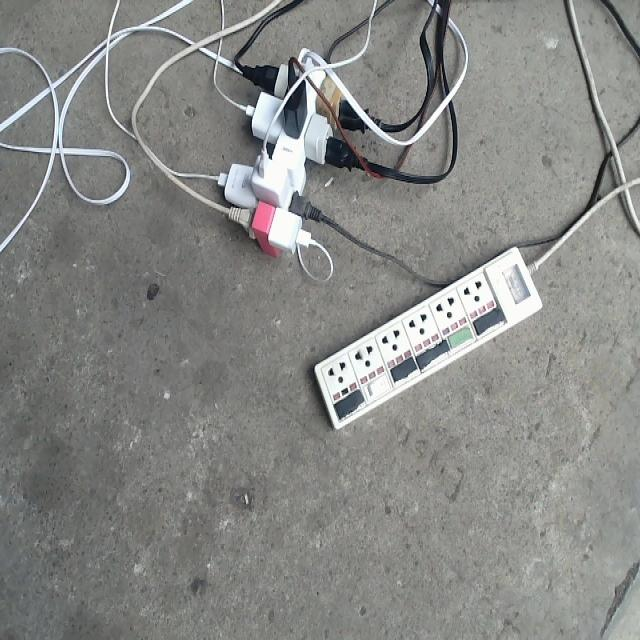-: (215, 45, 383, 260)
